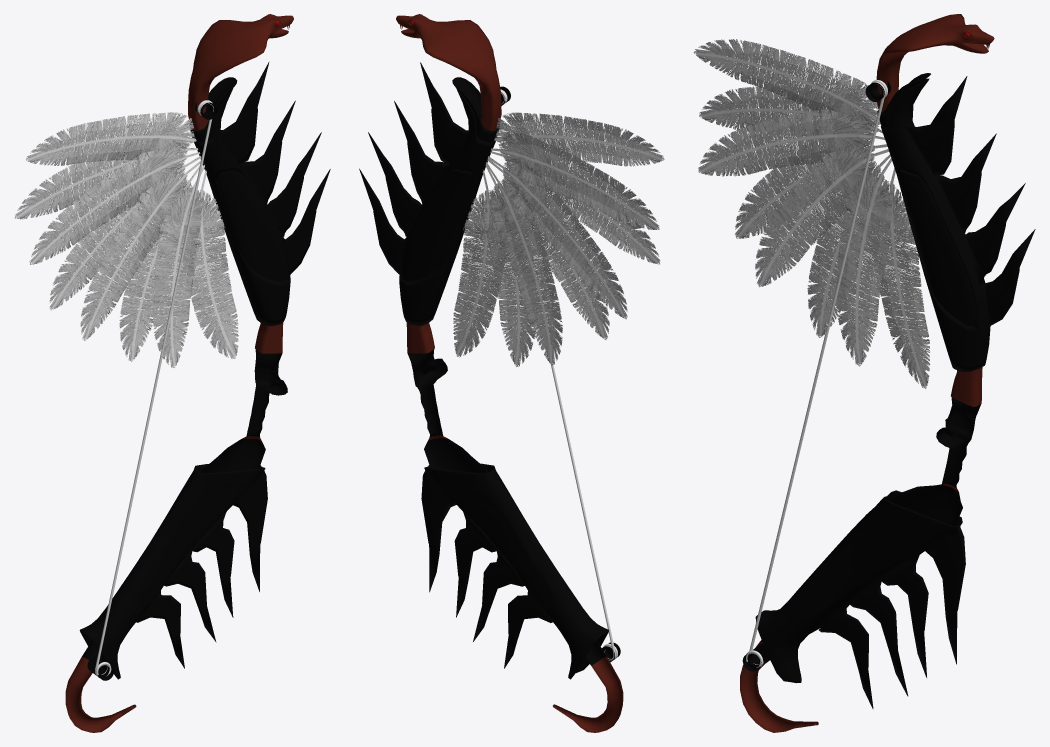
File: bow (1).dae
3 views of the same model, side by side, from view 1: azimuth 30°, elevation 25°; view 2: azimuth 150°, elevation 25°; view 3: azimuth 330°, elevation 25° (orthographic). The views are drawn at different scales.
Parts seen in each view (by area): view 1: Cube_001; view 2: Cube_001; view 3: Cube_001.
Part boxes in pixels (left/top/right/bottom): Cube_001: left=14, top=14, right=330, bottom=732; Cube_001: left=359, top=14, right=664, bottom=732; Cube_001: left=693, top=14, right=1035, bottom=732.
Size of the model in its own units: 43 by 10.75 by 89.43.
5 materials, 3 textured.
